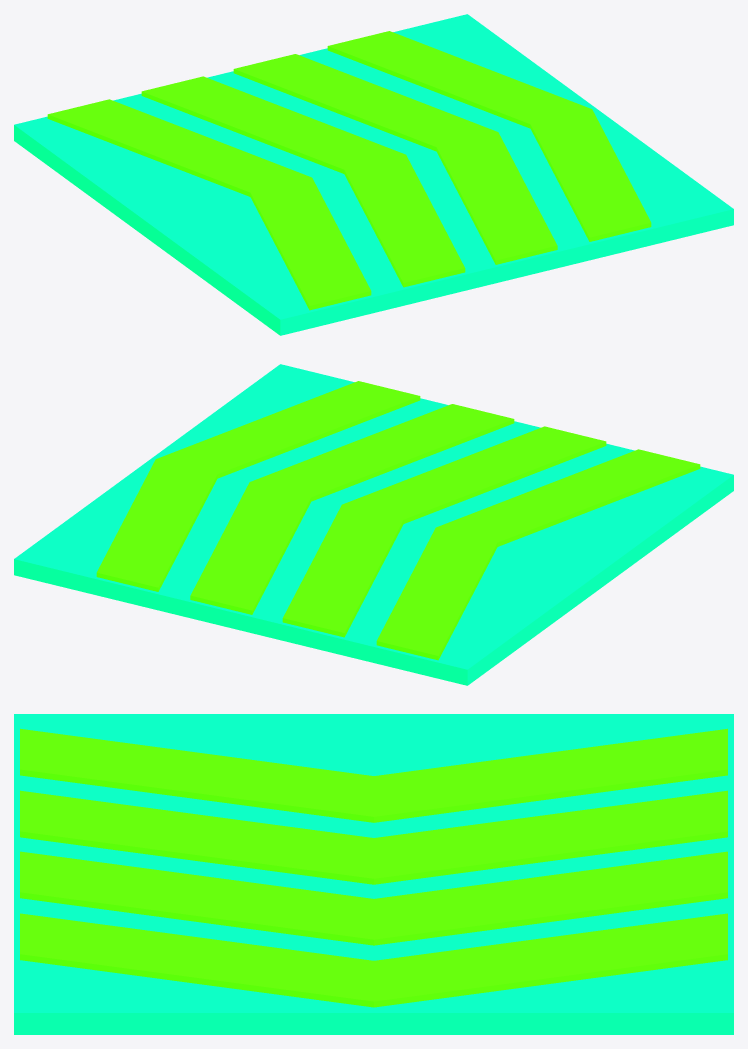
Rendered from boost.glb.
3 views of the same model, one above another, from view 1: azimuth 30°, elevation 25°; view 2: azimuth 150°, elevation 25°; view 3: azimuth 270°, elevation 25° (orthographic). The views are drawn at different scales.
Visible parts, largest first — view 1: Cube; view 2: Cube; view 3: Cube.
Boxes of the visible parts, x1,y1,x2,y2 form: Cube: (14, 14, 733, 335); Cube: (14, 364, 733, 685); Cube: (14, 714, 733, 1034).
Bounding box in the file's own units: 0.6996 × 0.0303 × 0.7118.
